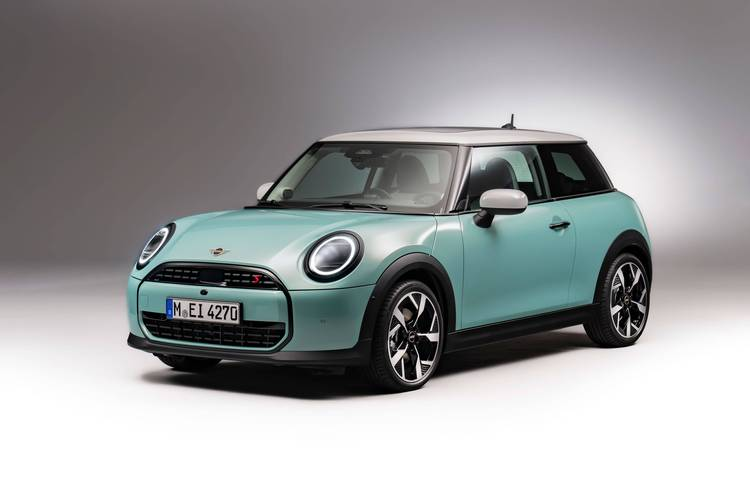汽车: (127, 128, 659, 391)
